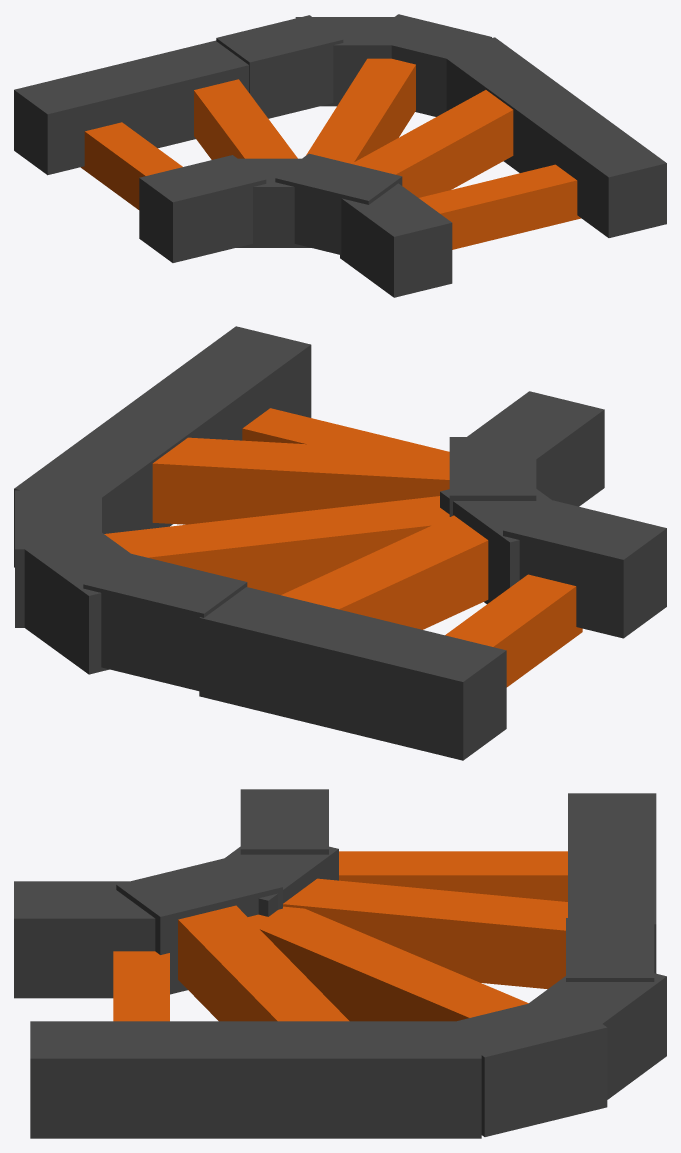
Rendered from TrailTurn.fbx.
3 views of the same model, one above another, from view 1: azimuth 30°, elevation 25°; view 2: azimuth 150°, elevation 25°; view 3: azimuth 270°, elevation 25° (orthographic). The views are drawn at different scales.
Parts seen in each view (by area): view 1: Cube.018, Cube.017, Cube.026, Cube.023, Cube.030, Cube.022, Cube.028, Cube.029, Cube.024, Cube.032, Cube.020, Cube.027 (+3 smaller); view 2: Cube.018, Cube.030, Cube.029, Cube.017, Cube.026, Cube.022, Cube.032, Cube.021, Cube.023, Cube.019, Cube.027, Cube.024 (+3 smaller); view 3: Cube.017, Cube.032, Cube.019, Cube.020, Cube.029, Cube.023, Cube.030, Cube.018, Cube.027, Cube.024, Cube.021, Cube.026 (+3 smaller).
Boxes of the visible parts, x1,y1,x2,y2 form: Cube.018: [14, 40, 248, 175]; Cube.017: [490, 77, 666, 237]; Cube.026: [139, 155, 266, 262]; Cube.023: [340, 183, 452, 297]; Cube.030: [351, 90, 513, 197]; Cube.022: [216, 15, 343, 118]; Cube.028: [419, 164, 581, 249]; Cube.029: [306, 58, 415, 163]; Cube.024: [275, 153, 402, 254]; Cube.032: [194, 79, 297, 159]; Cube.020: [365, 14, 491, 116]; Cube.027: [81, 122, 182, 209]; Cube.018: [199, 587, 506, 760]; Cube.030: [152, 437, 449, 524]; Cube.029: [104, 496, 449, 595]; Cube.017: [84, 326, 311, 527]; Cube.026: [503, 499, 666, 638]; Cube.022: [83, 553, 247, 690]; Cube.032: [281, 515, 488, 629]; Cube.021: [24, 526, 130, 674]; Cube.023: [467, 391, 604, 506]; Cube.019: [14, 438, 158, 567]; Cube.027: [445, 574, 582, 687]; Cube.024: [449, 437, 536, 516]; Cube.017: [30, 1021, 340, 1138]; Cube.032: [283, 878, 567, 989]; Cube.019: [340, 1021, 481, 1138]; Cube.020: [441, 995, 607, 1136]; Cube.029: [248, 906, 528, 1021]; Cube.023: [14, 881, 155, 998]; Cube.030: [178, 905, 349, 1021]; Cube.018: [568, 793, 656, 973]; Cube.027: [339, 851, 567, 901]; Cube.024: [116, 855, 282, 994]; Cube.021: [525, 973, 666, 1099]; Cube.026: [240, 789, 328, 854].
Size of the model in its own units: 150 by 156 by 23.72.
